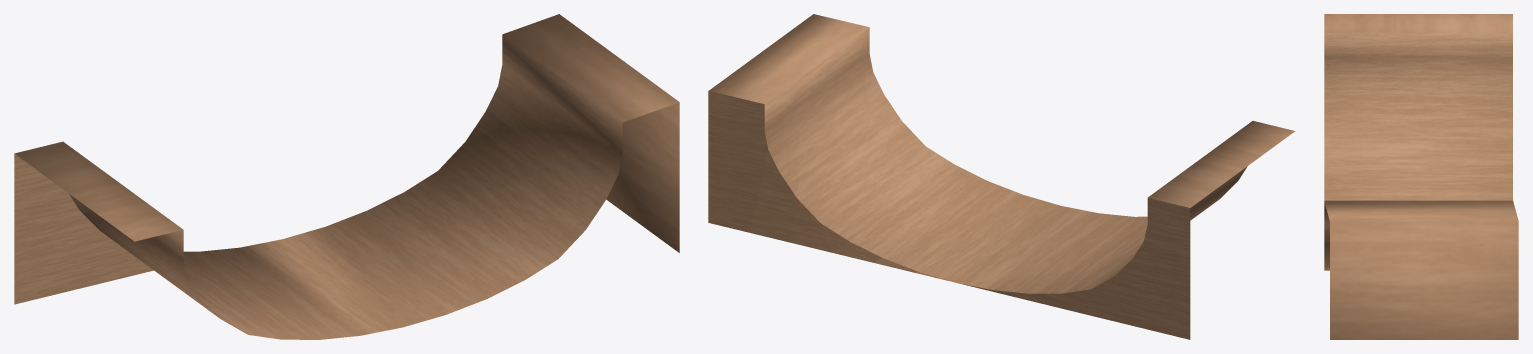
Rendered from HalfPipe.fbx.
3 views of the same model, side by side, from view 1: azimuth 30°, elevation 25°; view 2: azimuth 150°, elevation 25°; view 3: azimuth 270°, elevation 25° (orthographic). The views are drawn at different scales.
Parts seen in each view (by area): view 1: Collision; view 2: Collision; view 3: Collision.
Part boxes in pixels (left/top/right/bottom): Collision: left=14, top=14, right=679, bottom=339; Collision: left=708, top=14, right=1294, bottom=339; Collision: left=1324, top=14, right=1518, bottom=339.
Size of the model in its own units: 526 by 141 by 206.
1 material, 1 textured.
